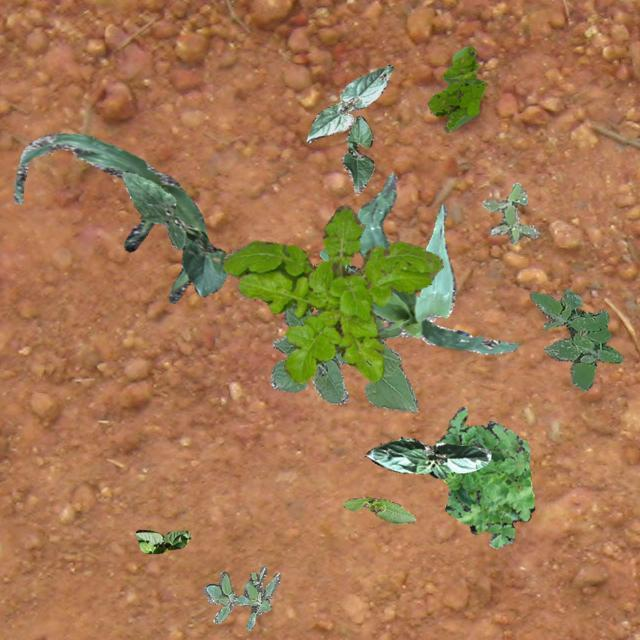crop: (318, 172, 518, 354), (12, 132, 206, 302), (270, 302, 416, 412), (120, 170, 226, 296), (304, 64, 392, 142), (364, 436, 490, 478), (341, 116, 374, 192), (342, 496, 414, 522), (133, 528, 190, 552)
weed: (220, 204, 442, 383), (434, 406, 534, 548), (528, 288, 622, 390), (202, 566, 280, 630), (428, 46, 484, 132), (480, 182, 540, 242)
